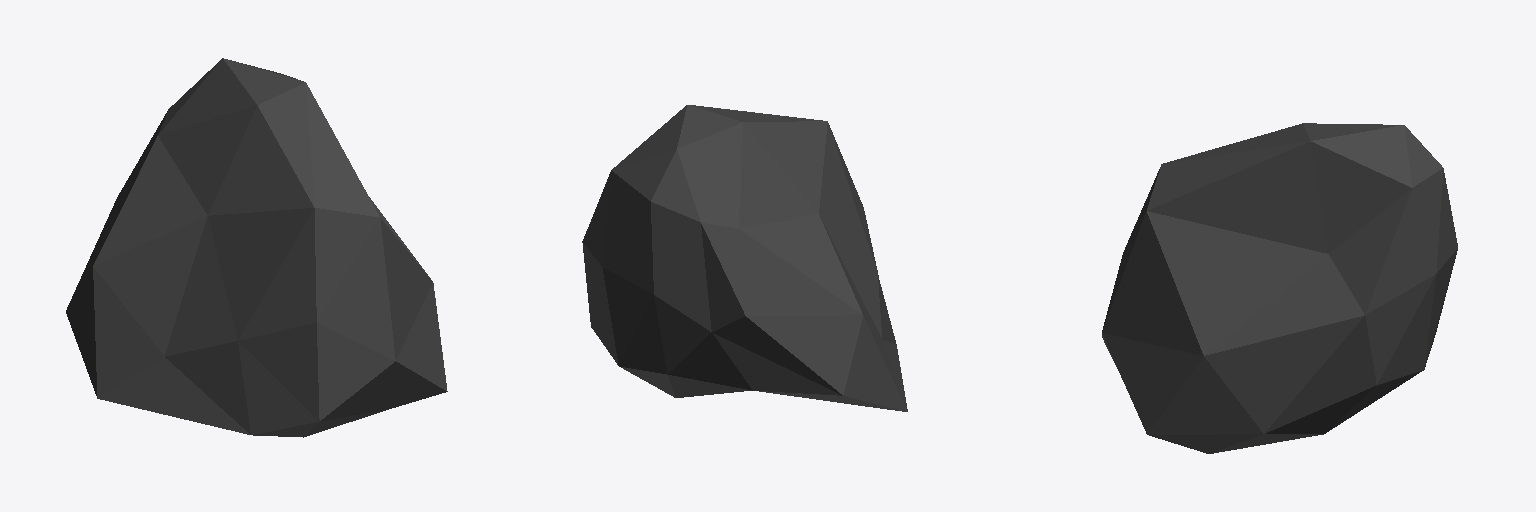
The model's file is rock_4.obj.
3 views of the same model, side by side, from view 1: azimuth 30°, elevation 25°; view 2: azimuth 150°, elevation 25°; view 3: azimuth 270°, elevation 25° (orthographic).
Parts seen in each view (by area): view 1: r4_Icosphere.008; view 2: r4_Icosphere.008; view 3: r4_Icosphere.008.
Boxes of the visible parts, <box> form: r4_Icosphere.008: <box>66,58,447,437</box>; r4_Icosphere.008: <box>582,105,907,411</box>; r4_Icosphere.008: <box>1102,123,1457,453</box>.
Size of the model in its own units: 2.41 by 2.26 by 2.49.